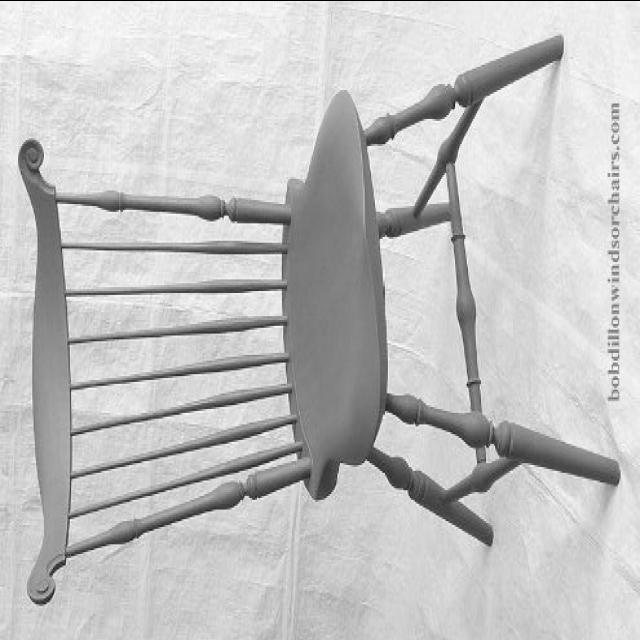chair: (20, 24, 620, 608)
